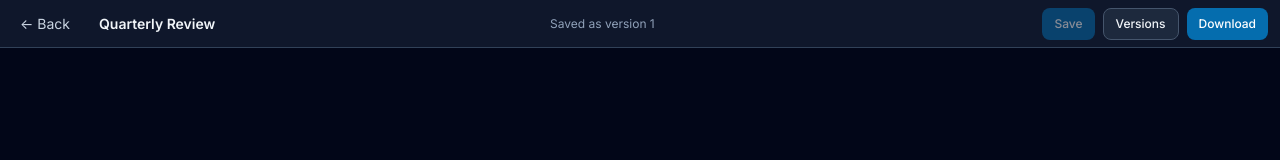
Test: EditorPage › renames the deck on blur and exposes a recoverable rename error
Replace the text in the field showing "Quarterly Review" with "Rejected name" at (314, 24), box [90,8,538,38]
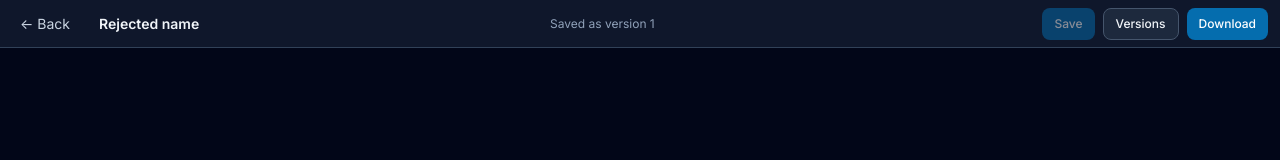
Leave the field showing "Quarterly Review", box [90,8,538,38]
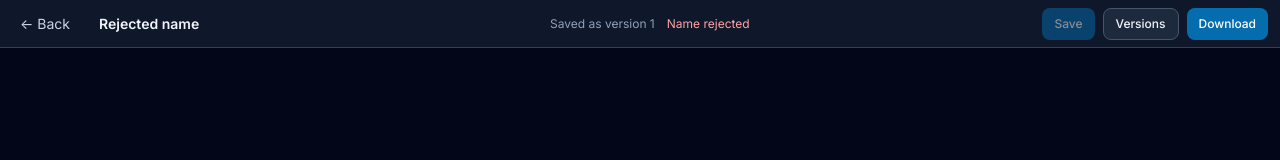
Now the text "Name rejected" is shown, box [667,16,750,32]
Replace the text in the field showing "Quarterly Review" with "Accepted name" at (314, 24), box [90,8,538,38]
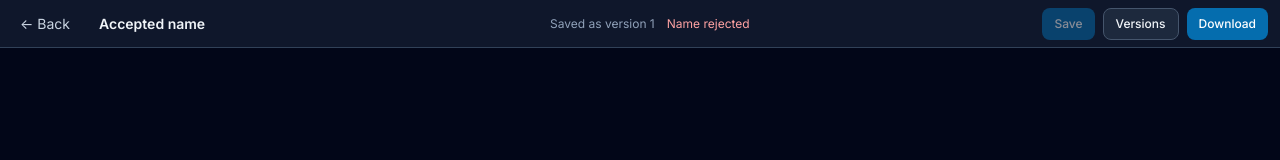
Leave the field showing "Quarterly Review", box [90,8,538,38]
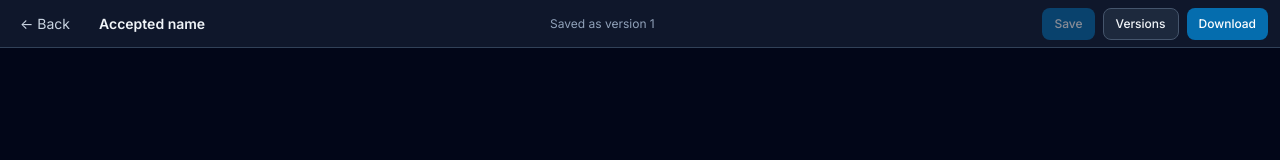
Now the text "Name rejected" is gone
